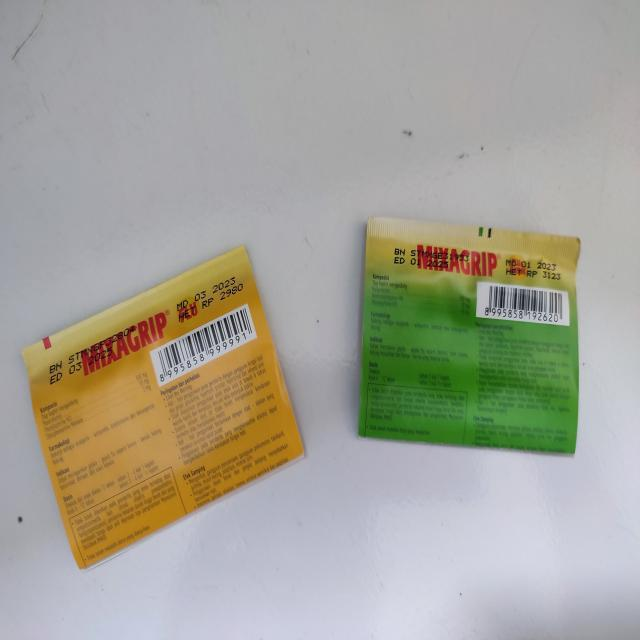B3: (19, 248, 305, 571), (360, 214, 582, 455)
